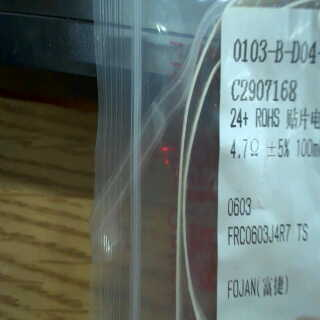4.7R: (225, 135, 265, 163)
